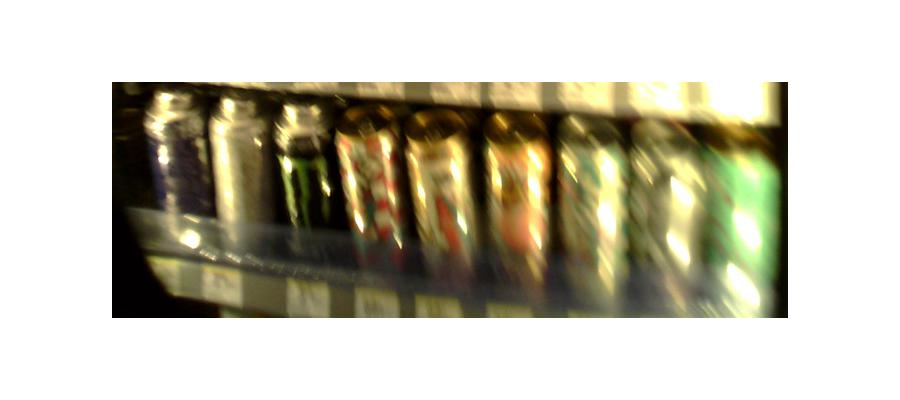bottle: (632, 119, 712, 307), (335, 106, 412, 282), (558, 109, 626, 303), (707, 126, 776, 309), (406, 111, 476, 288), (479, 116, 549, 288), (211, 94, 276, 254), (272, 95, 333, 260), (143, 90, 207, 247)
